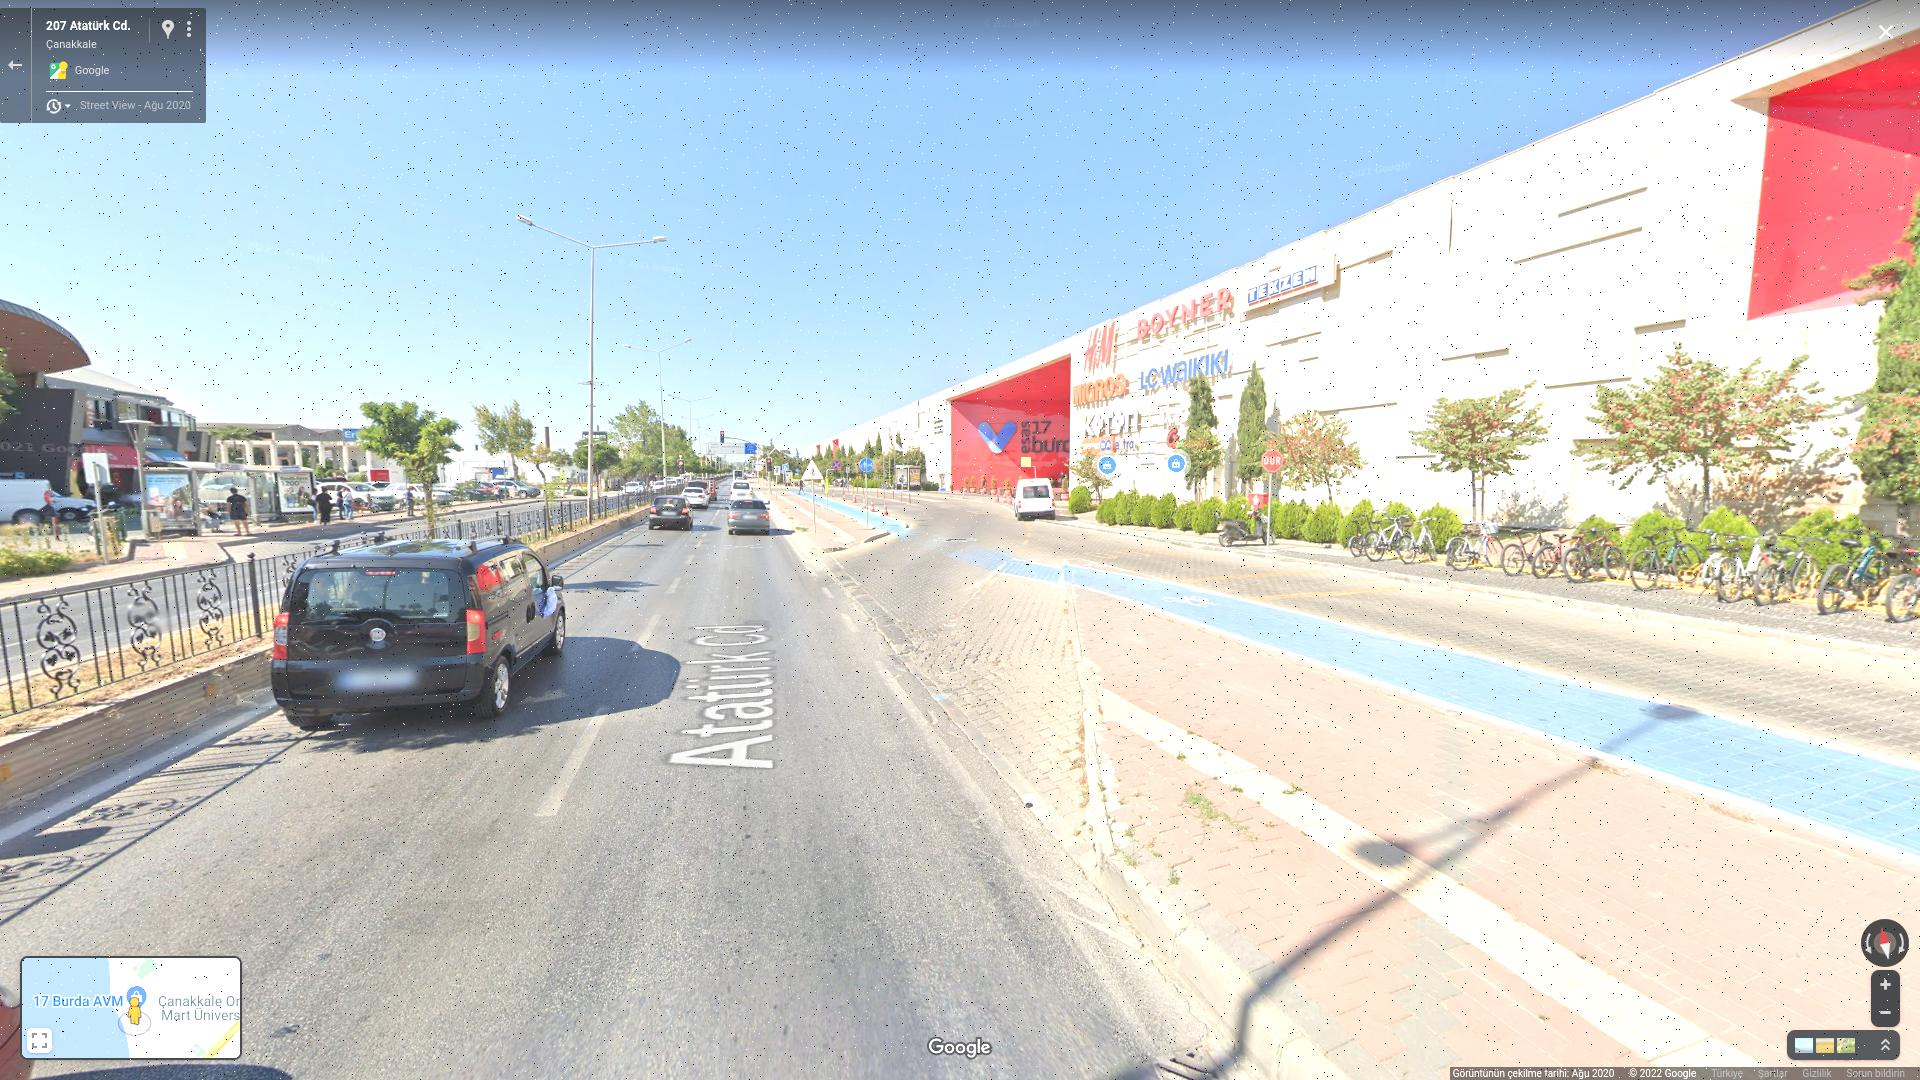stop: (1261, 450, 1283, 472)
